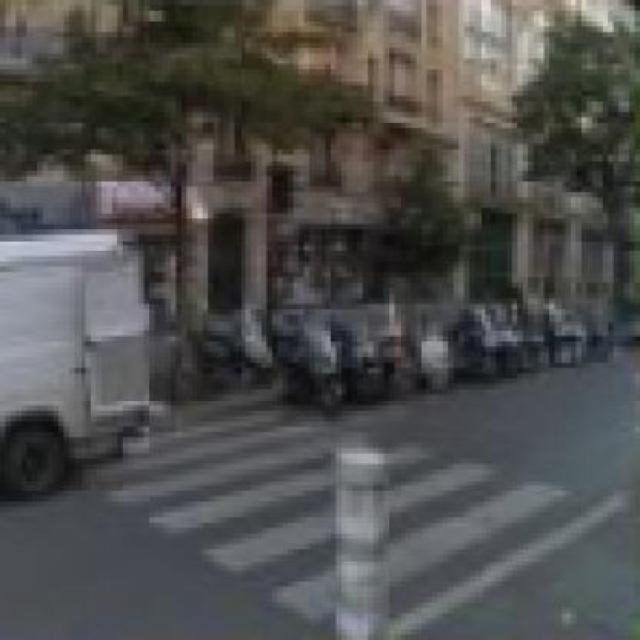crosswalk: (95, 405, 572, 633)
